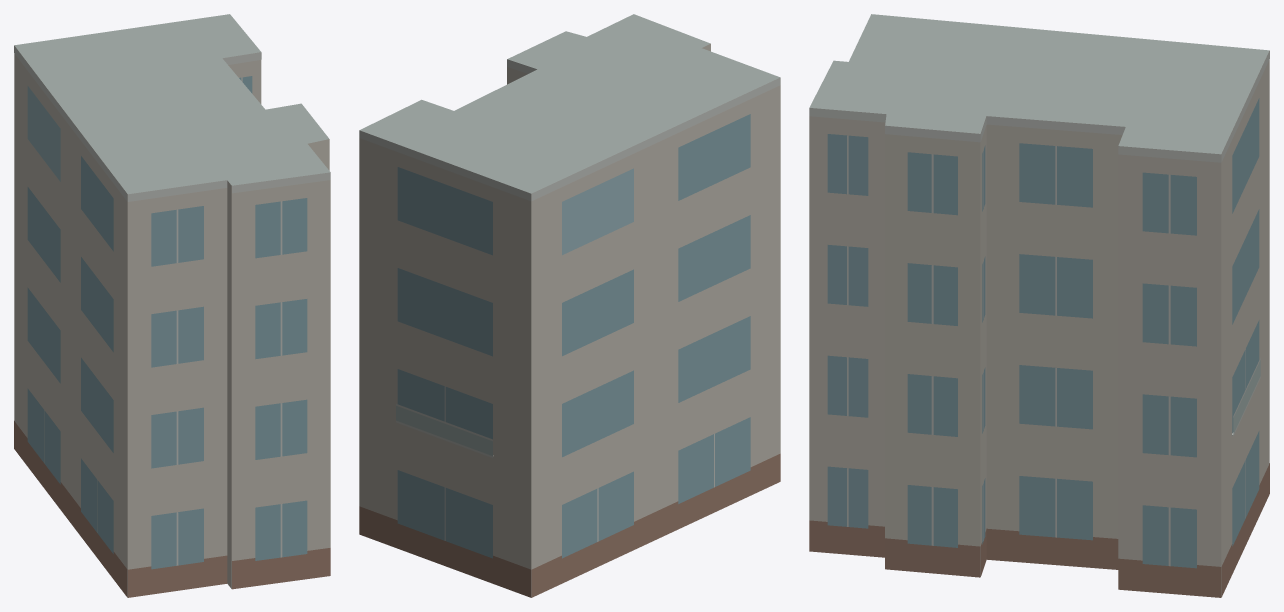
Rendered from survey-upis-32506300.glb.
3 renders of one model, left to right at view 1: azimuth 30°, elevation 25°; view 2: azimuth 150°, elevation 25°; view 3: azimuth 270°, elevation 25°, orthographic. The views are drawn at different scales.
Visible parts, largest first — view 1: survey-upis-32506300.tmp; view 2: survey-upis-32506300.tmp; view 3: survey-upis-32506300.tmp.
Boxes of the visible parts, <box> form: survey-upis-32506300.tmp: <box>14,14,330,597</box>; survey-upis-32506300.tmp: <box>359,14,780,597</box>; survey-upis-32506300.tmp: <box>809,14,1269,597</box>.
Size of the model in its own units: 8.69 by 12.8 by 12.05.
